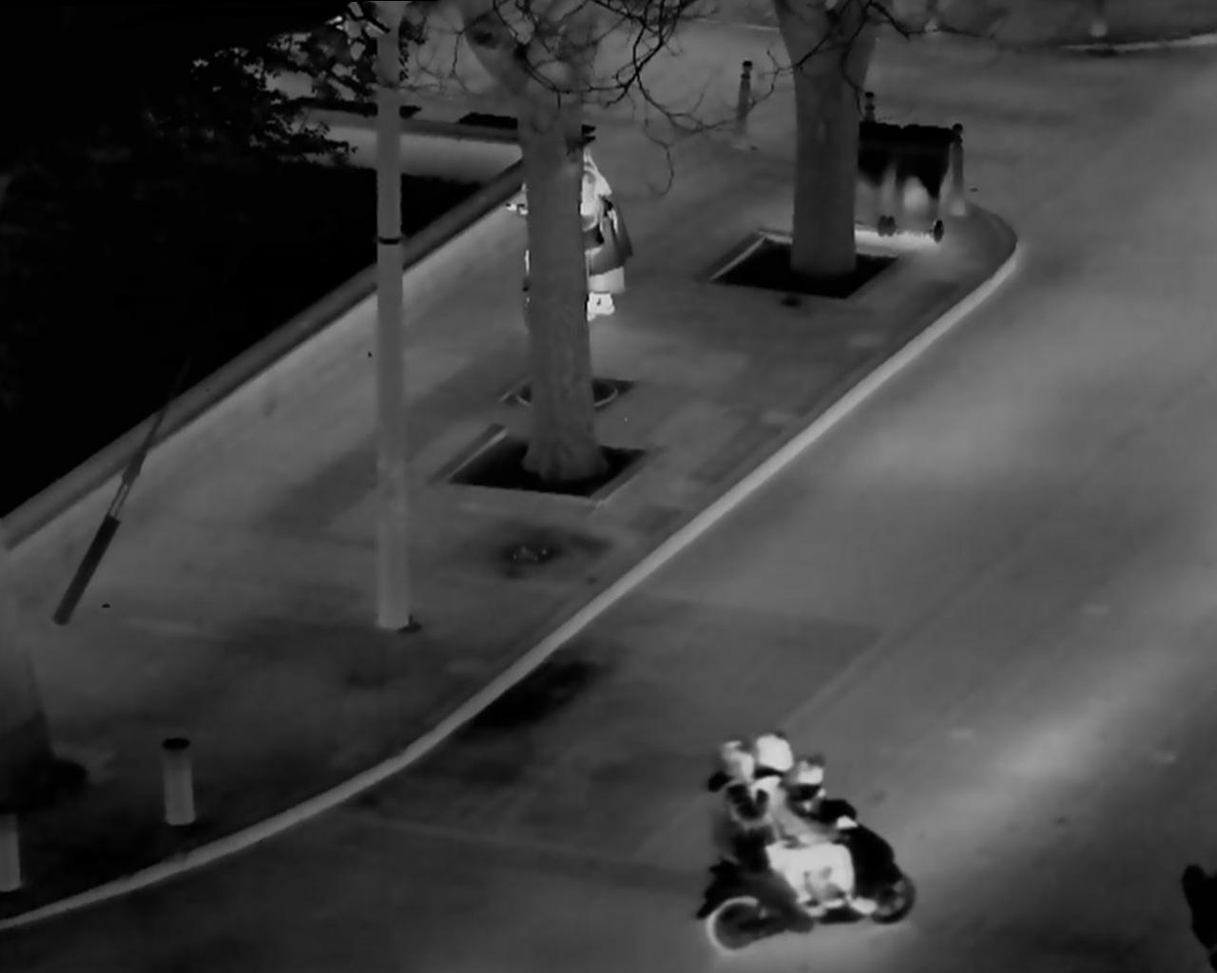person: (699, 736, 809, 921), (758, 733, 862, 911), (563, 143, 656, 336), (791, 749, 829, 811)
